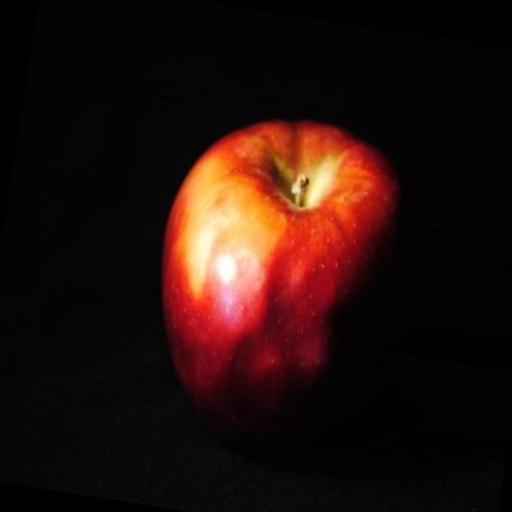fruit: (162, 122, 399, 440)
